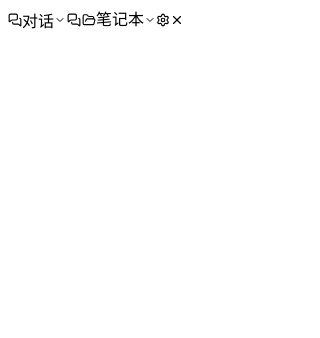
Test: floating bar account › signs out from settings and adopts the returned status
This screenshot has width=320, height=338.
Click the button named "打开设置" at (163, 20), box [156,13,170,27]
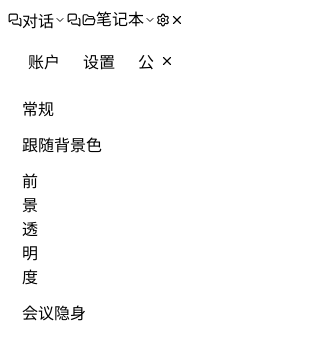
Click the tab "账户" at (44, 61), box [18,48,70,74]
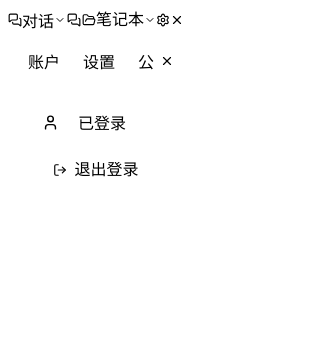
Click the button "退出登录" at (96, 170), box [20,162,172,178]
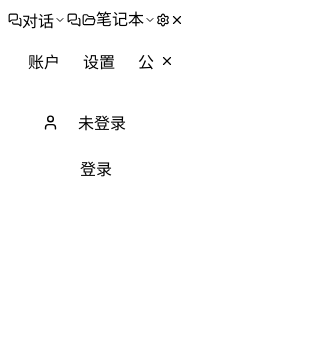
Expected: the text "未登录" is shown, [78,110,126,134]
